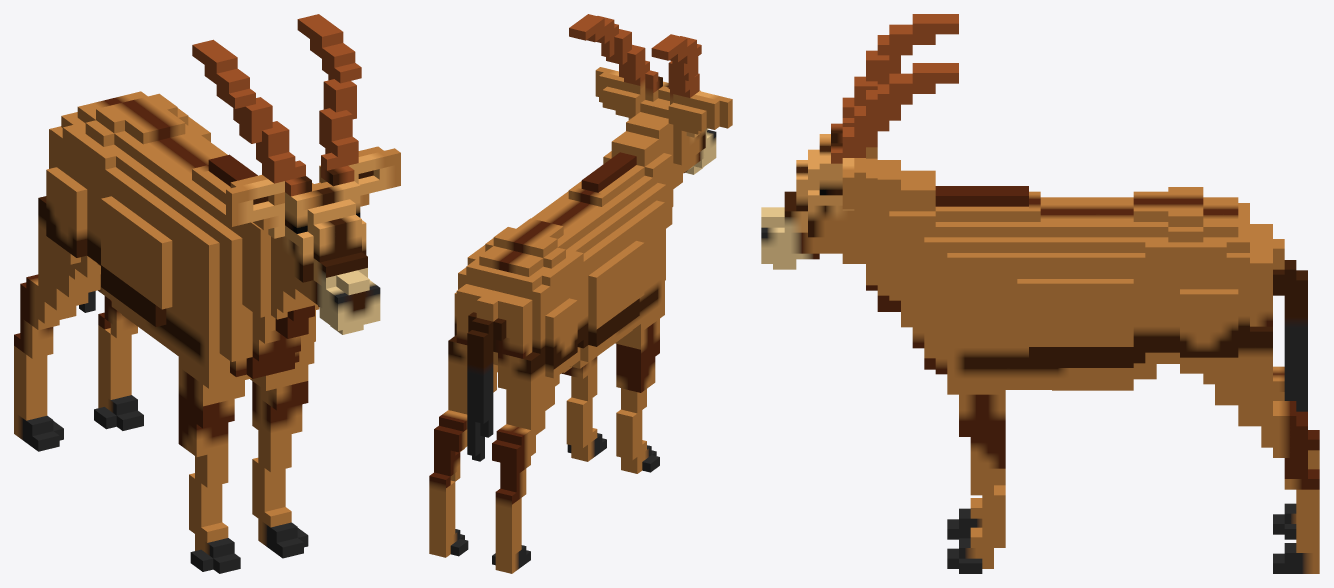
File: beisa_oryx.fbx
3 renders of one model, left to right at view 1: azimuth 30°, elevation 25°; view 2: azimuth 150°, elevation 25°; view 3: azimuth 270°, elevation 25°, orthographic. The views are drawn at different scales.
Parts seen in each view (by area): view 1: beisa_oryx; view 2: beisa_oryx; view 3: beisa_oryx.
Part boxes in pixels (box(x1,y1,x2,y2)): beisa_oryx: box(14, 14, 400, 573); beisa_oryx: box(429, 14, 732, 573); beisa_oryx: box(761, 14, 1319, 573).
Size of the model in its own units: 16 by 48 by 48.
Materials: 1 (1 with a texture image).
